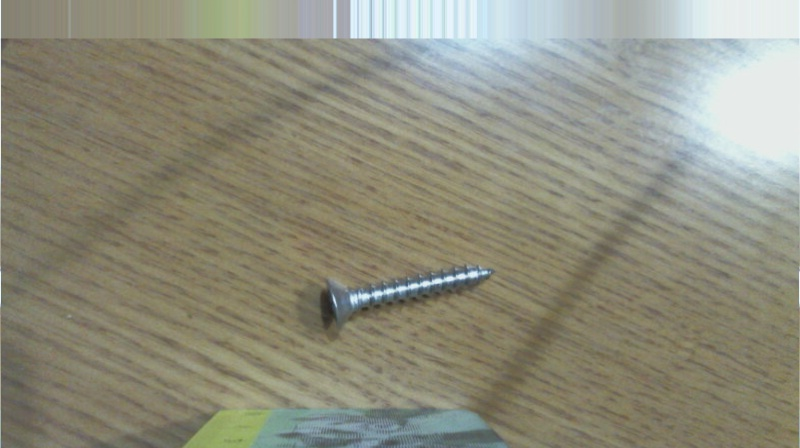S001: (321, 263, 496, 327)
